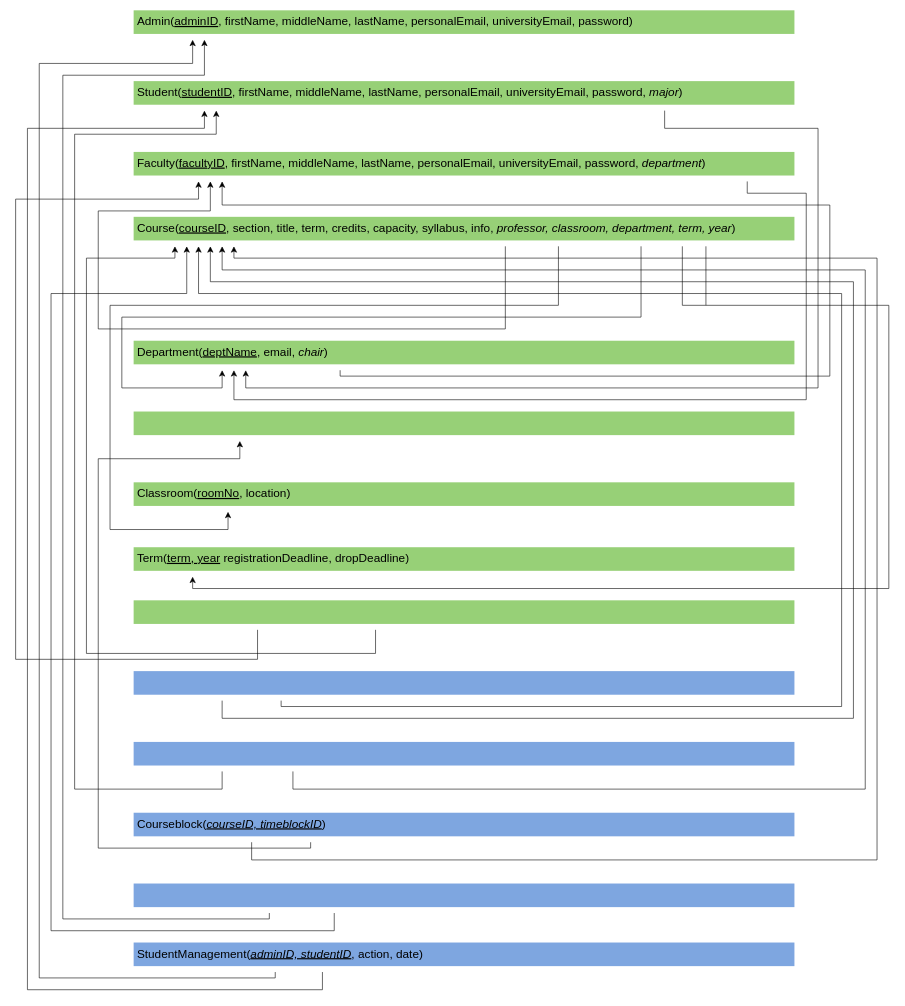
The diagram is 905 pixels wide and 1006 high, and some of its shapes have lost their labels. The centre of each missing label's shape, as x and y in pixels:
"CourseManagement( adminID, courseID , action, date)" belongs at (463,895).
"Enrollments( studentID , courseID , grade, status)" belongs at (463,753).
"Notifications( date, facultyID , title, content, course)" belongs at (463,612).
"Prerequisites( course, prerequisite )" belongs at (463,682).
"Timeblock( timeblockID , day, startTime, endTime)" belongs at (463,423).
